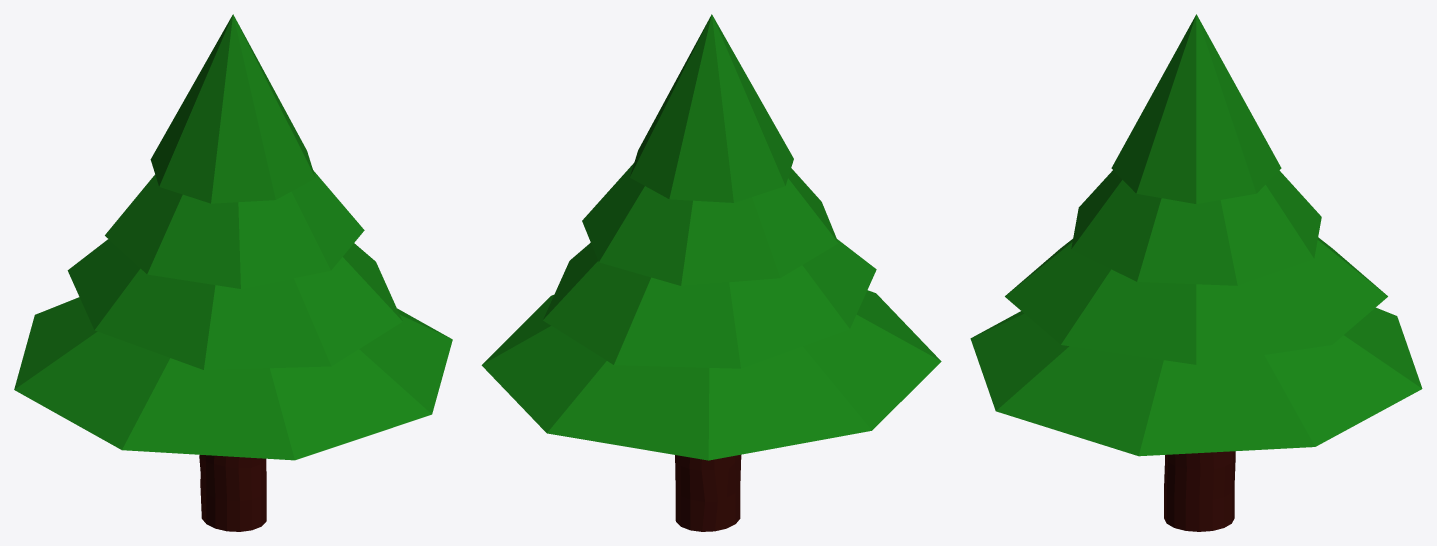
The model's file is PineTree.obj.
3 views of the same model, side by side, from view 1: azimuth 30°, elevation 25°; view 2: azimuth 150°, elevation 25°; view 3: azimuth 270°, elevation 25° (orthographic).
Parts seen in each view (by area): view 1: Cone.003, Cone.002, Cone.001, Cone, Trunc_Cylinder; view 2: Cone.003, Cone.002, Cone.001, Cone, Trunc_Cylinder; view 3: Cone.003, Cone.002, Cone.001, Cone, Trunc_Cylinder.
Part boxes in pixels (x1,y1,x2,y2): Cone.003: [14, 297, 452, 460]; Cone.002: [67, 239, 402, 369]; Cone.001: [105, 170, 364, 288]; Cone: [150, 14, 315, 203]; Trunc_Cylinder: [199, 455, 266, 531]; Cone.003: [481, 290, 941, 460]; Cone.002: [543, 239, 876, 368]; Cone.001: [582, 163, 838, 285]; Cone: [629, 14, 793, 202]; Trunc_Cylinder: [675, 454, 741, 531]; Cone.003: [970, 307, 1422, 456]; Cone.002: [1005, 237, 1387, 364]; Cone.001: [1071, 170, 1321, 285]; Cone: [1111, 14, 1281, 204]; Trunc_Cylinder: [1164, 451, 1235, 531].
Bounding box in the file's own units: 5.15 × 6.52 × 5.31.
